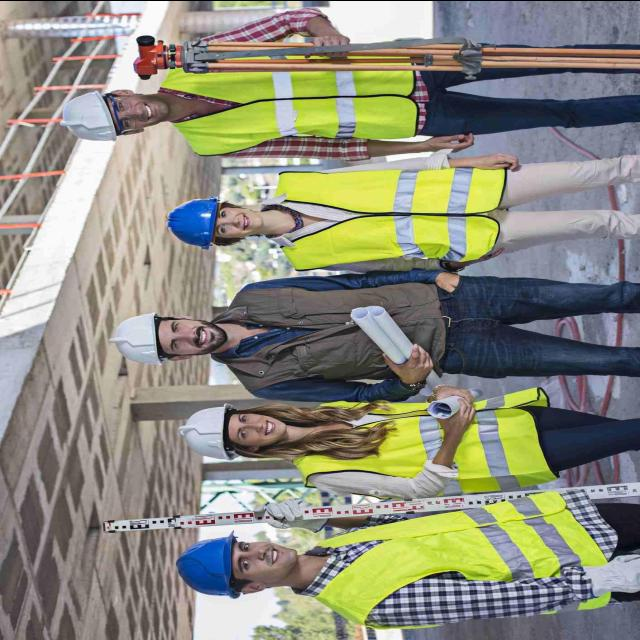helmet: (171, 525, 245, 602), (48, 80, 118, 144), (176, 396, 238, 464), (106, 307, 166, 365), (160, 194, 220, 250)
jacket: (319, 502, 609, 618), (142, 49, 438, 155), (288, 389, 548, 493), (268, 162, 507, 264)
